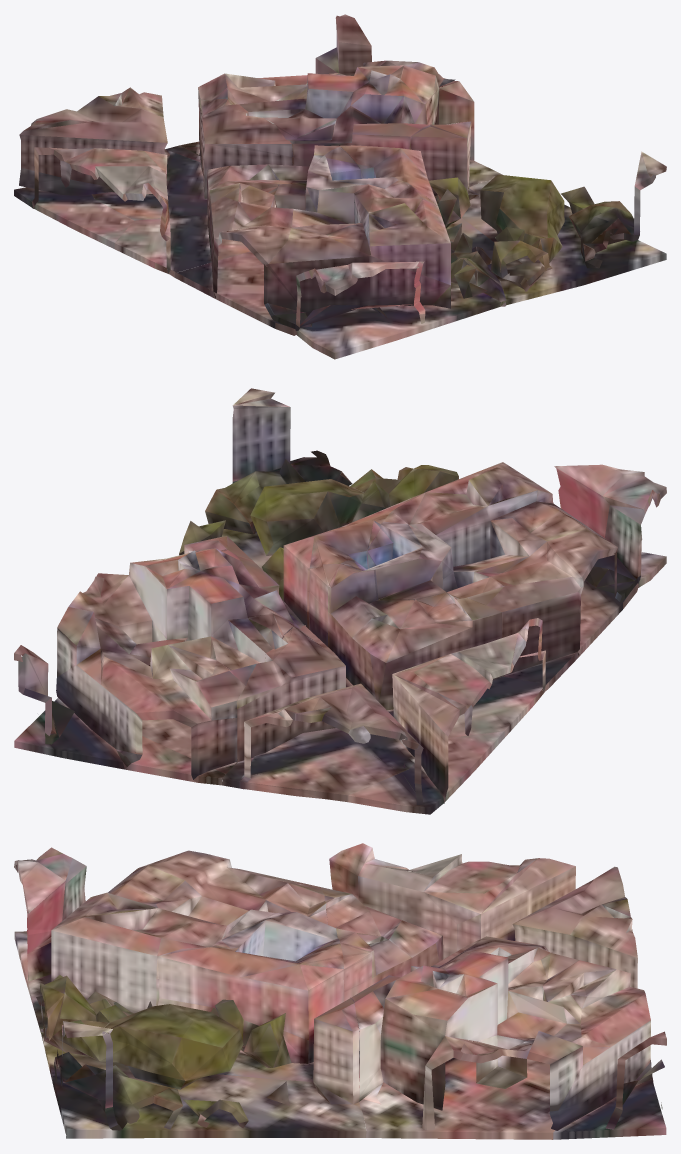
3 views of the same model, one above another, from view 1: azimuth 30°, elevation 25°; view 2: azimuth 150°, elevation 25°; view 3: azimuth 270°, elevation 25° (orthographic). The views are drawn at different scales.
Visible parts, largest first — view 1: Mesh_0; view 2: Mesh_0; view 3: Mesh_0.
Boxes of the visible parts, <box> form: Mesh_0: <box>14,14,666,359</box>; Mesh_0: <box>14,388,666,814</box>; Mesh_0: <box>14,843,666,1139</box>.
Bounding box in the file's own units: 133 × 37.4 × 165.
Materials: 1 (1 with a texture image).
